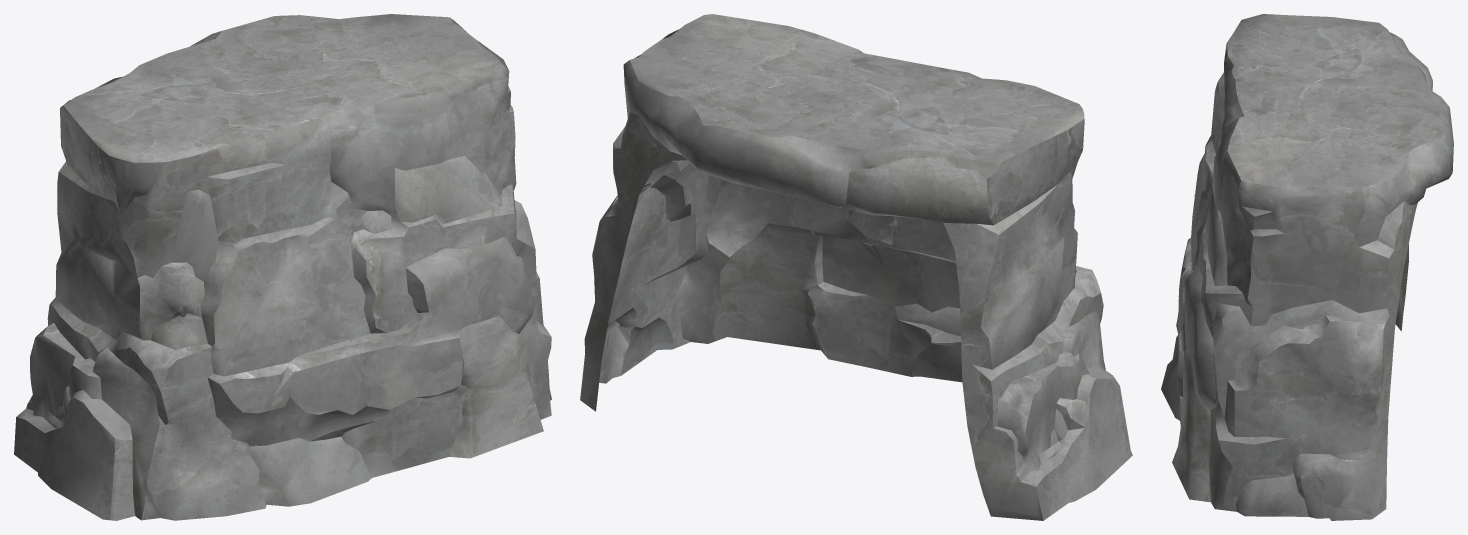
The model's file is SM_Com_Roc_07AS.fbx.
3 views of the same model, side by side, from view 1: azimuth 30°, elevation 25°; view 2: azimuth 150°, elevation 25°; view 3: azimuth 270°, elevation 25° (orthographic). The views are drawn at different scales.
Visible parts, largest first — view 1: SM_Com_Roc_07AS.mo; view 2: SM_Com_Roc_07AS.mo; view 3: SM_Com_Roc_07AS.mo.
Boxes of the visible parts, x1,y1,x2,y2 form: SM_Com_Roc_07AS.mo: (14,14,551,520); SM_Com_Roc_07AS.mo: (580,14,1132,520); SM_Com_Roc_07AS.mo: (1161,14,1453,520).
Size of the model in its own units: 39.65 by 27.43 by 23.19.
